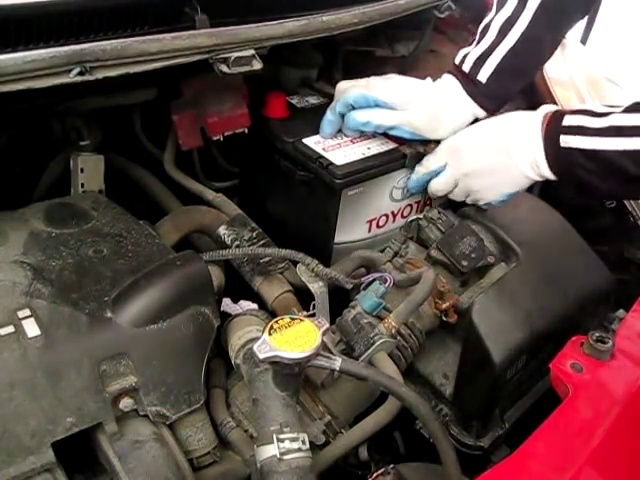battery: (259, 87, 425, 183)
pos_disconnected: (189, 85, 298, 147)
